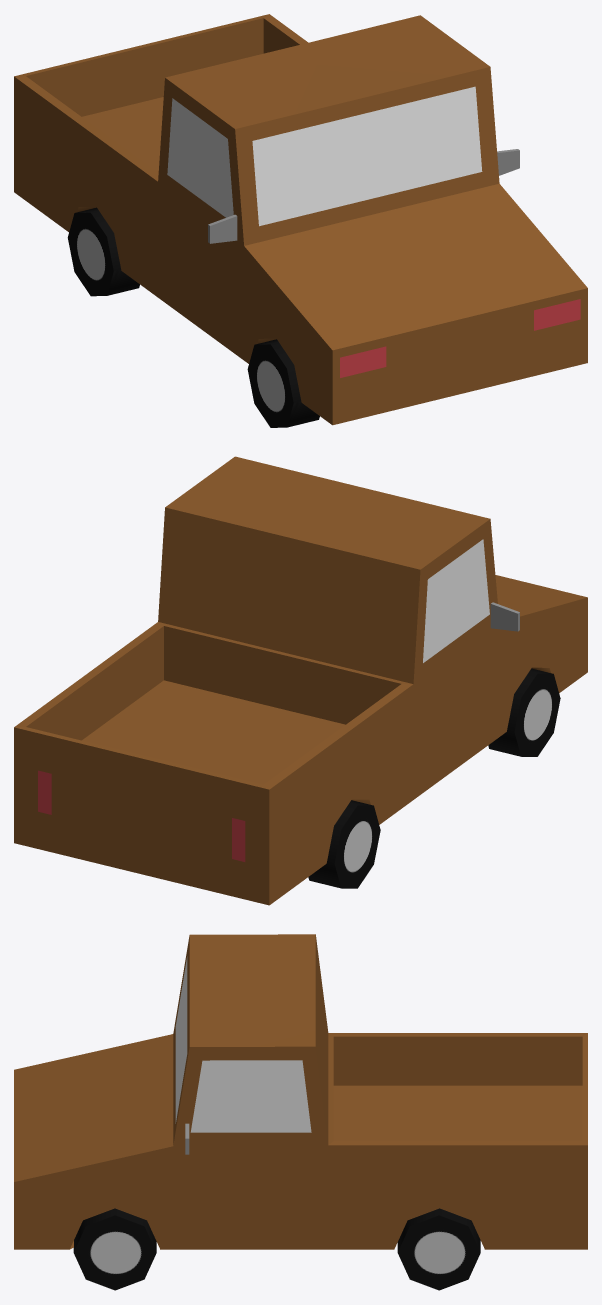
File: Car_5.FBX
3 views of the same model, one above another, from view 1: azimuth 30°, elevation 25°; view 2: azimuth 150°, elevation 25°; view 3: azimuth 270°, elevation 25° (orthographic). The views are drawn at different scales.
Parts seen in each view (by area): view 1: Car 05; view 2: Car 05; view 3: Car 05.
Part boxes in pixels (x1,y1,x2,y2): Car 05: (14, 14, 587, 427); Car 05: (14, 456, 587, 905); Car 05: (14, 934, 587, 1290).
Size of the model in its own units: 1.74 by 1.43 by 3.09.
Materials: 1 (1 with a texture image).
